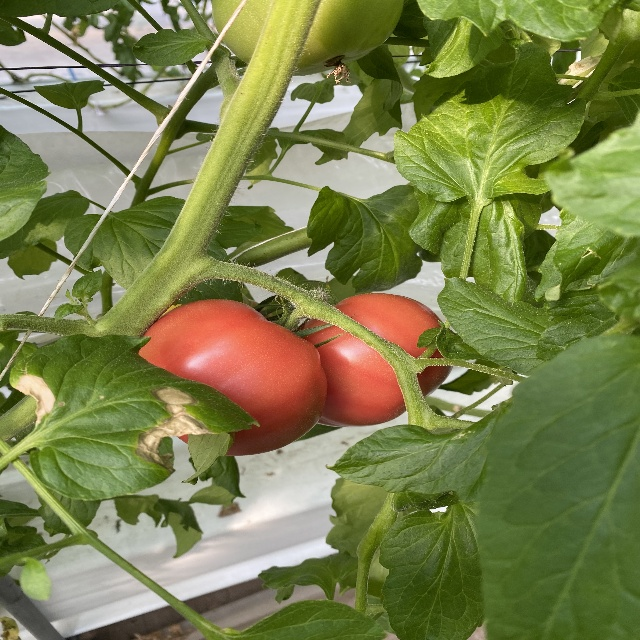b_fully_ripened: (132, 298, 329, 457), (297, 293, 455, 428)
b_green: (211, 0, 404, 76)
